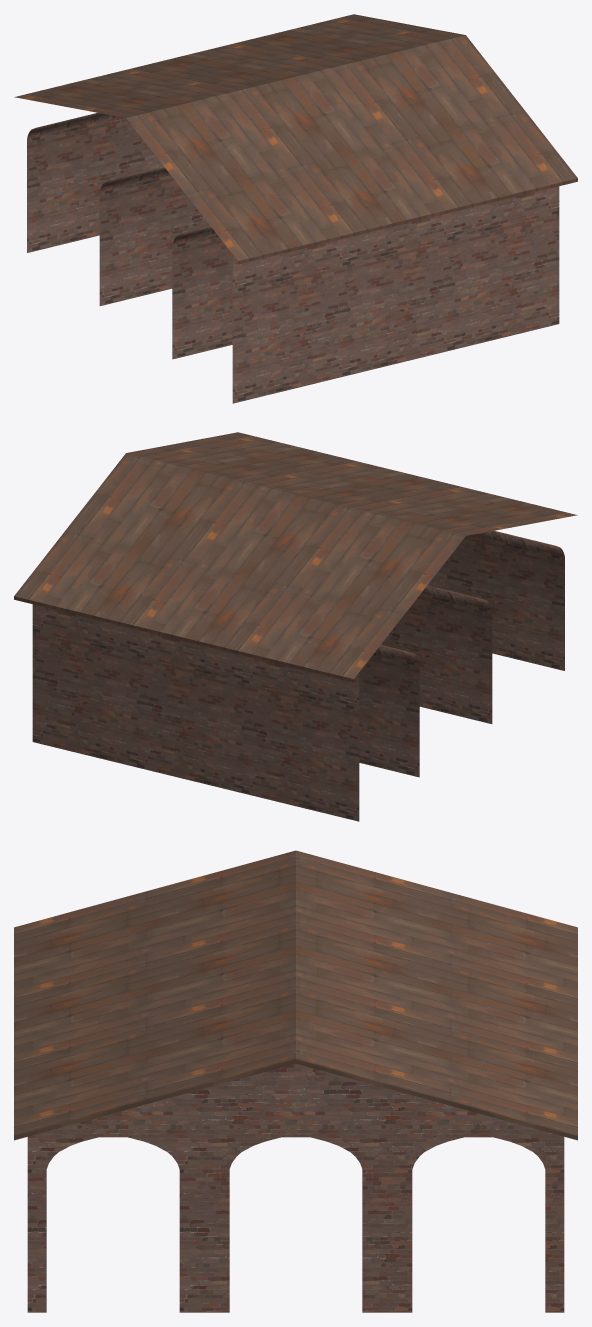
3 renders of one model, top to bottom at view 1: azimuth 30°, elevation 25°; view 2: azimuth 150°, elevation 25°; view 3: azimuth 270°, elevation 25°, orthographic. The views are drawn at different scales.
Visible parts, largest first — view 1: body0_model0_lod0_mesh0, body0_model0_lod0_mesh1; view 2: body0_model0_lod0_mesh0, body0_model0_lod0_mesh1; view 3: body0_model0_lod0_mesh0, body0_model0_lod0_mesh1.
Boxes of the visible parts, bbox=[...] form: body0_model0_lod0_mesh0: bbox=[14, 14, 577, 264]; body0_model0_lod0_mesh1: bbox=[27, 112, 559, 403]; body0_model0_lod0_mesh0: bbox=[14, 432, 577, 682]; body0_model0_lod0_mesh1: bbox=[32, 530, 564, 821]; body0_model0_lod0_mesh0: bbox=[14, 850, 577, 1140]; body0_model0_lod0_mesh1: bbox=[27, 1063, 564, 1312].
Size of the model in its own units: 832 by 486 by 950.
3 materials, 2 textured.
